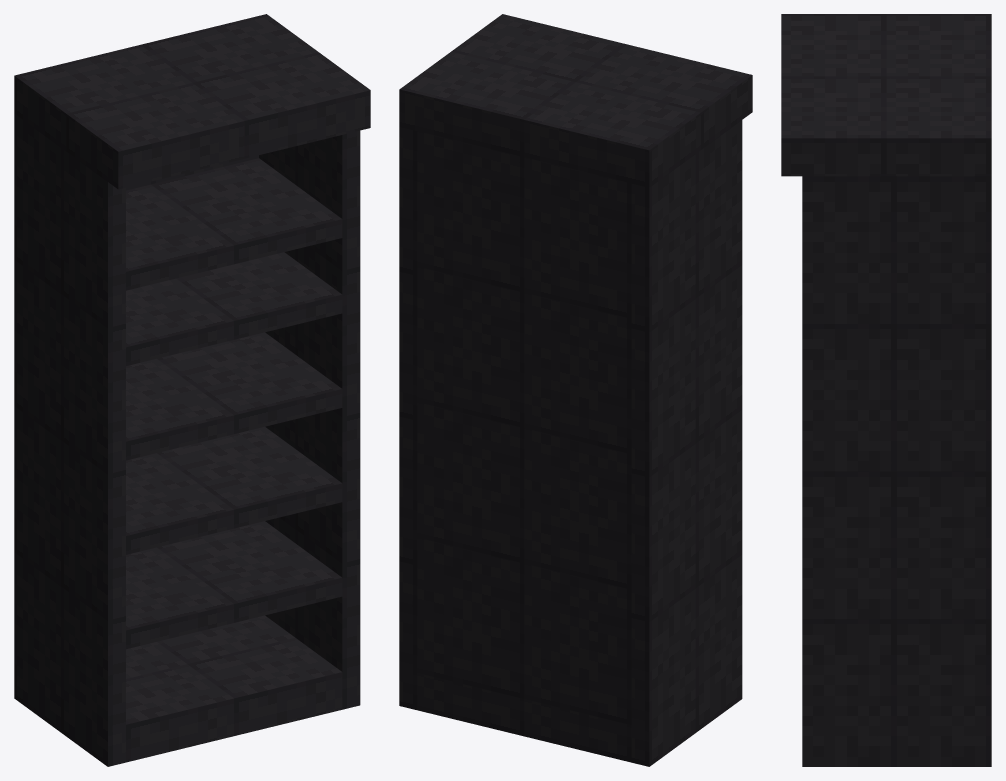
Rendered from mansionBookshelfMansion_1.glb.
3 renders of one model, left to right at view 1: azimuth 30°, elevation 25°; view 2: azimuth 150°, elevation 25°; view 3: azimuth 270°, elevation 25°, orthographic.
Visible parts, largest first — view 1: mansionBookshelfMansion_1; view 2: mansionBookshelfMansion_1; view 3: mansionBookshelfMansion_1.
Boxes of the visible parts, <box> form: mansionBookshelfMansion_1: <box>14,14,370,766</box>; mansionBookshelfMansion_1: <box>399,14,752,766</box>; mansionBookshelfMansion_1: <box>781,14,991,766</box>.
Size of the model in its own units: 0.875 by 2.06 by 0.625.
1 material, 1 textured.
